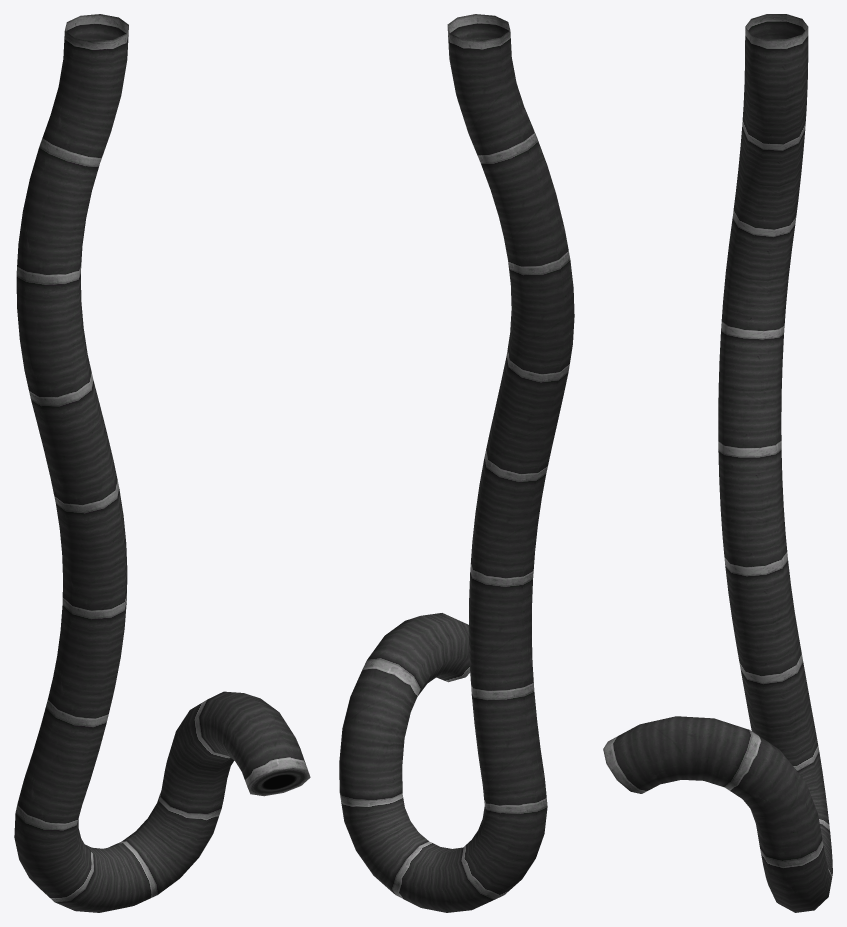
Rendered from lab_ark_room_coolant_special.dae.
3 renders of one model, left to right at view 1: azimuth 30°, elevation 25°; view 2: azimuth 150°, elevation 25°; view 3: azimuth 270°, elevation 25°, orthographic. The views are drawn at different scales.
Parts seen in each view (by area): view 1: 02_06_ark_room_coolant_pipe; view 2: 02_06_ark_room_coolant_pipe; view 3: 02_06_ark_room_coolant_pipe.
Boxes of the visible parts, <box> form: 02_06_ark_room_coolant_pipe: <box>14,14,310,912</box>; 02_06_ark_room_coolant_pipe: <box>339,14,574,912</box>; 02_06_ark_room_coolant_pipe: <box>603,14,832,912</box>.
Size of the model in its own units: 1.4 by 5.41 by 1.31.
